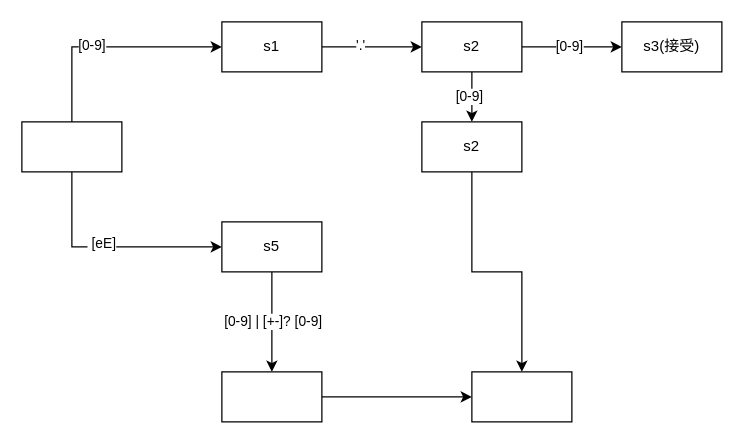
This 744x444 diagram has some shape labels left out. Here are the shapes that lost their labels. From the top down, the centre of each, then its label:
At (x=71, y=146): "s0".
At (x=271, y=396): "s6".
At (x=521, y=396): "s7(接受)".
